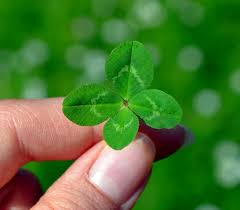4-clover: (63, 41, 183, 149)
